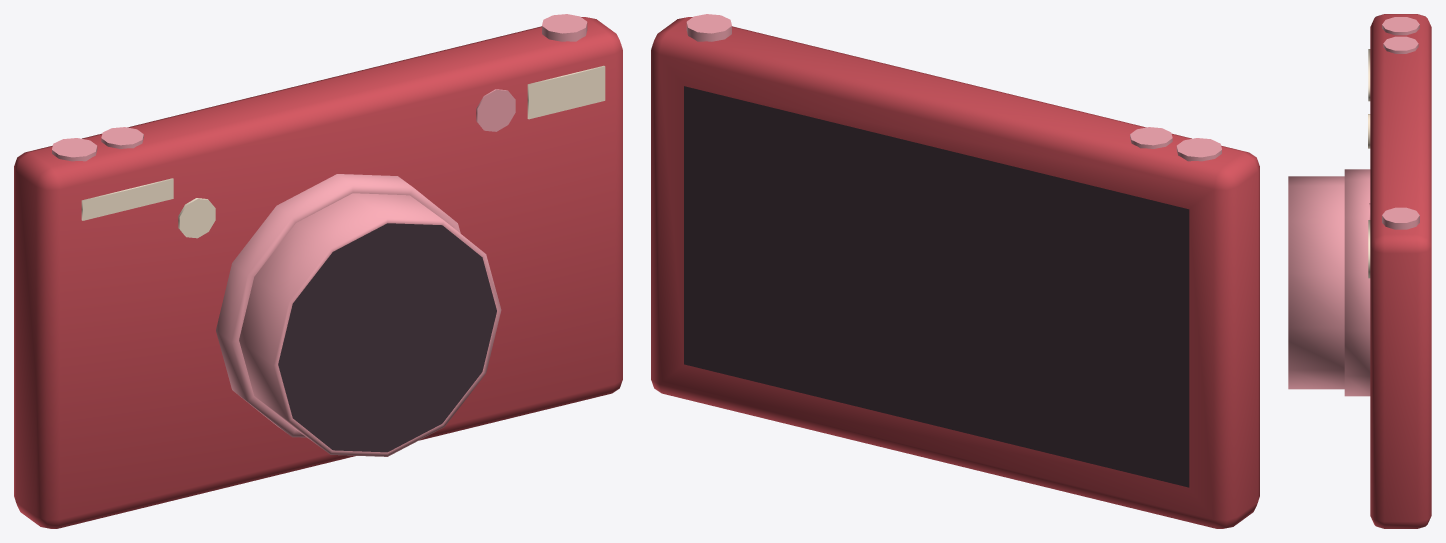
File: camera.fbx
3 renders of one model, left to right at view 1: azimuth 30°, elevation 25°; view 2: azimuth 150°, elevation 25°; view 3: azimuth 270°, elevation 25°, orthographic. The views are drawn at different scales.
Parts seen in each view (by area): view 1: Camera; view 2: Camera; view 3: Camera.
Boxes of the visible parts, x1=… form: Camera: x1=14, y1=14, x2=622, y2=528; Camera: x1=651, y1=14, x2=1259, y2=528; Camera: x1=1288, y1=14, x2=1431, y2=528.
Bounding box in the file's own units: 16.73 × 10.11 × 4.37.
